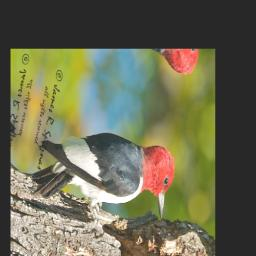Woodpecker: (26, 91, 180, 256)
